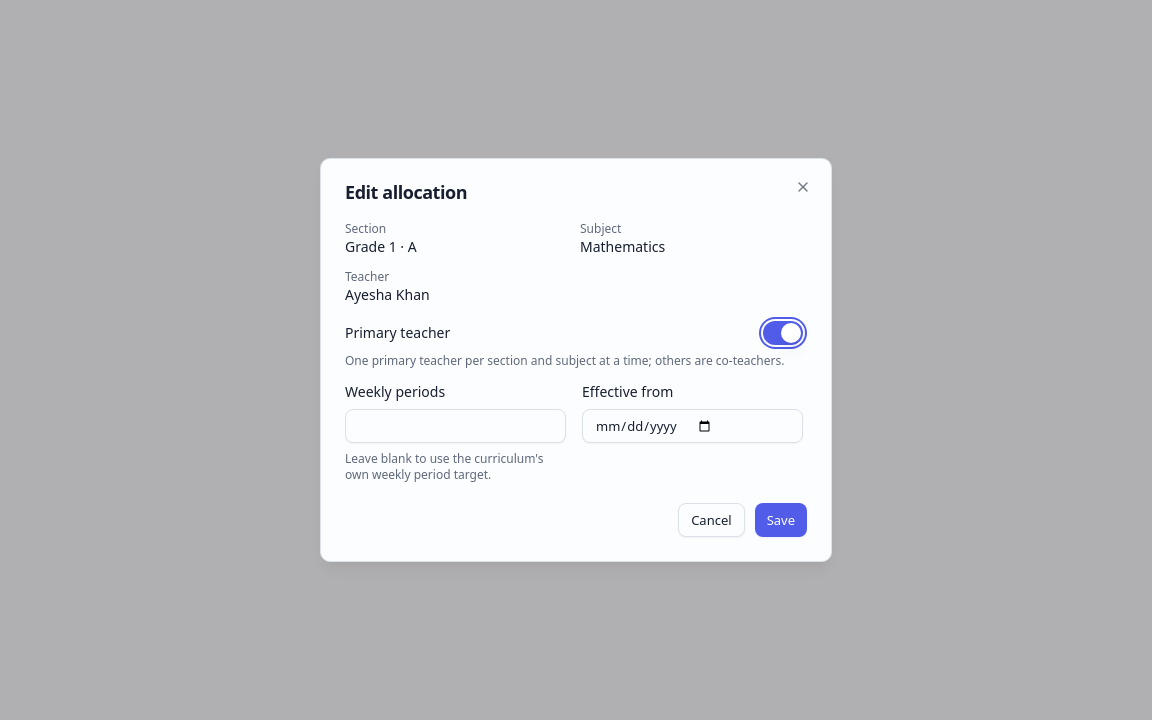
EditAllocationDialog › when the server refuses › shows an error naming a field it doesn't edit as the form's own message
The width and height of the screenshot is (1152, 720).
Type "7" into the number field labelled "Weekly periods".
click(456, 426); type("7")  # box 345,409 -> 566,443
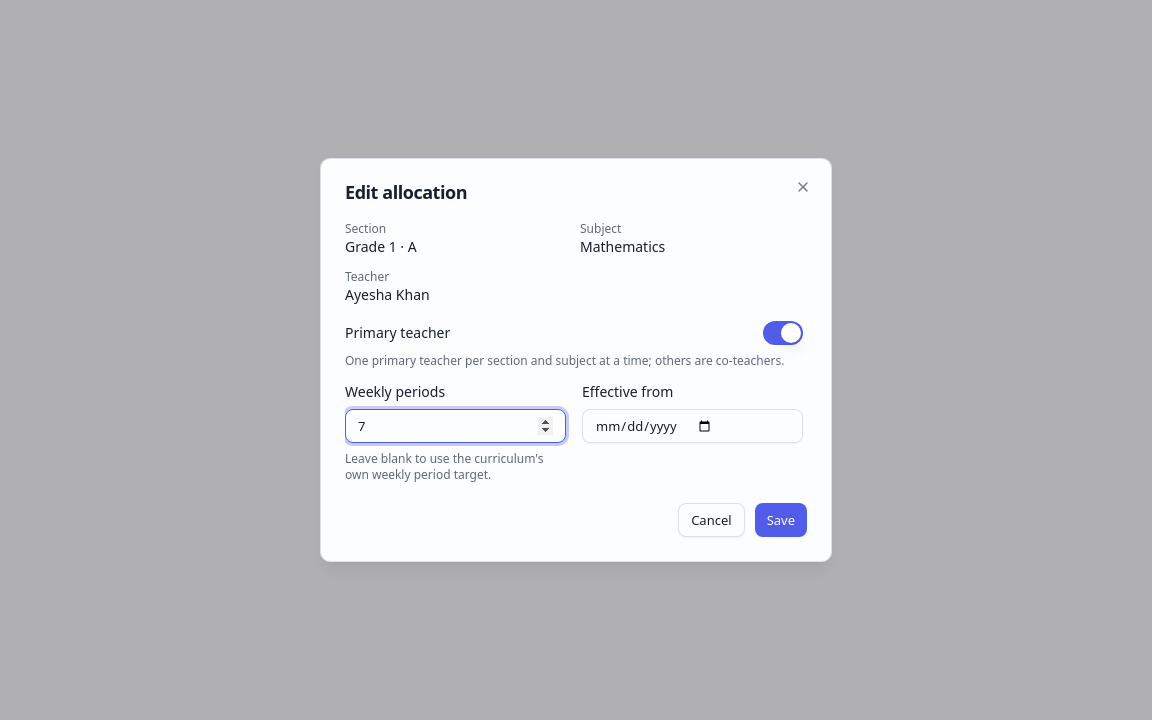
Click the button "Save".
click(781, 520)  # box 755,503 -> 807,537
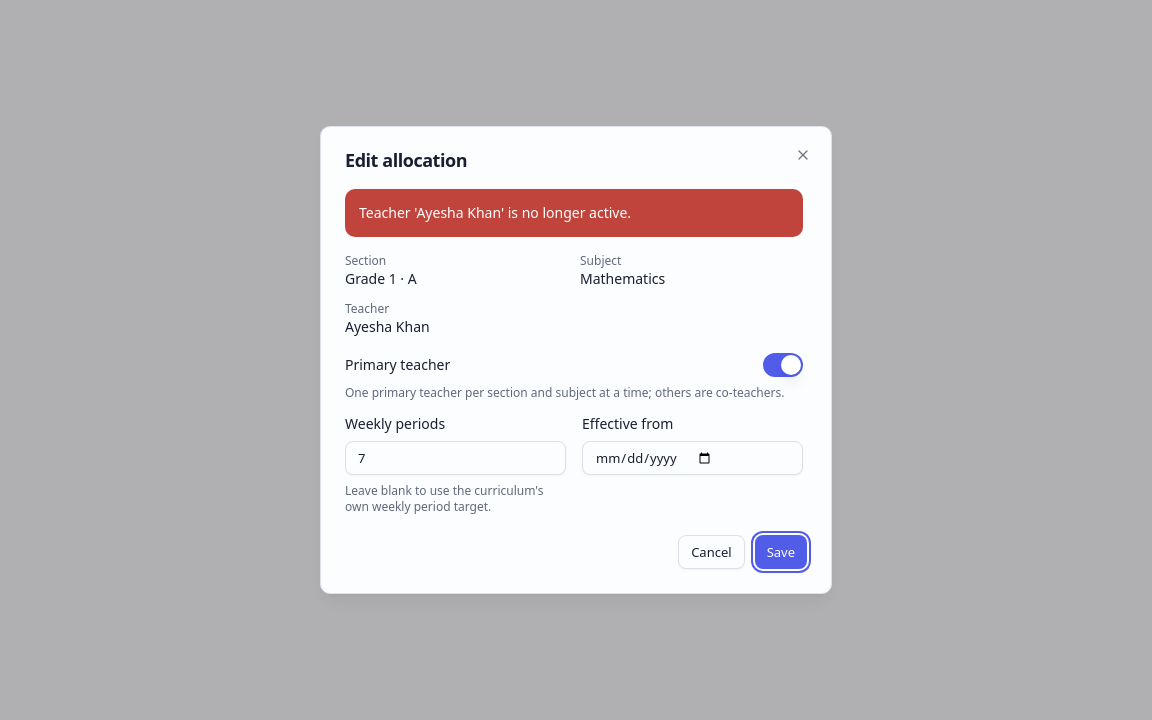
Result: the text "Teacher 'Ayesha Khan' is no longer active." is shown at 345,189 -> 803,237
